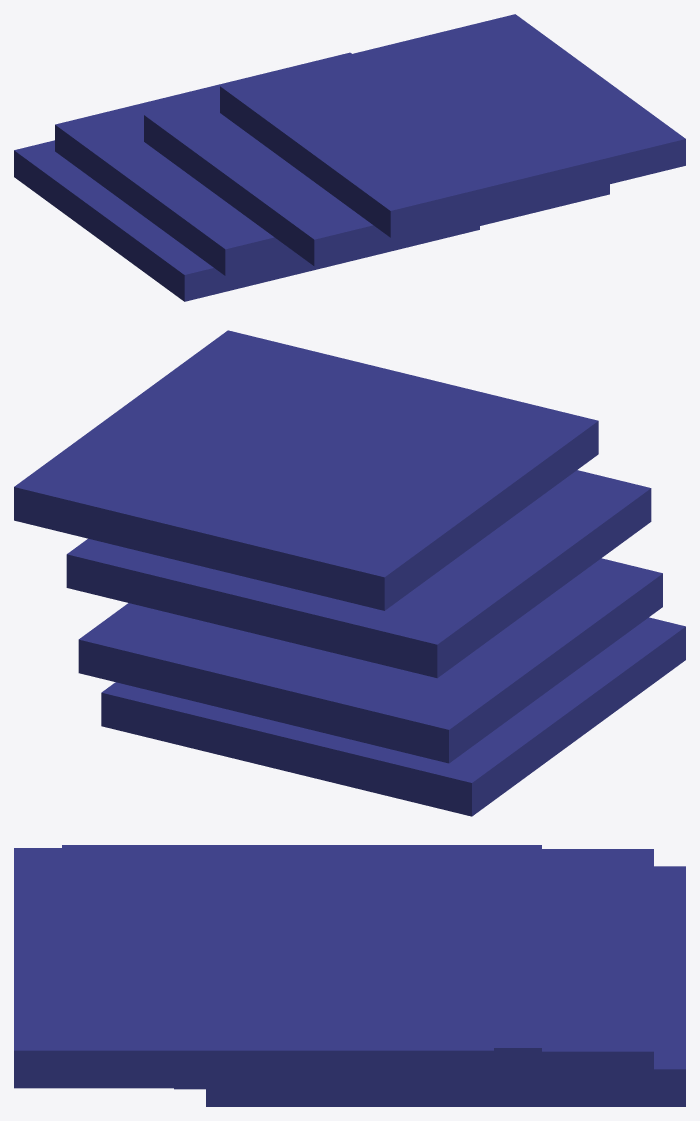
Rendered from city.glb.
3 renders of one model, top to bottom at view 1: azimuth 30°, elevation 25°; view 2: azimuth 150°, elevation 25°; view 3: azimuth 270°, elevation 25°, orthographic. The views are drawn at different scales.
Parts seen in each view (by area): view 1: Cube; view 2: Cube; view 3: Cube.
Boxes of the visible parts, x1,y1,x2,y2 form: Cube: (14, 14, 685, 301); Cube: (14, 330, 685, 816); Cube: (14, 845, 685, 1106).
Bounding box in the file's own units: 22 × 5.2 × 21.
